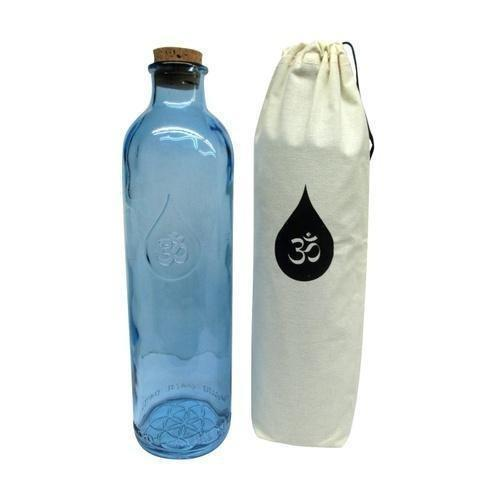bottle-glass: (119, 46, 238, 461)
